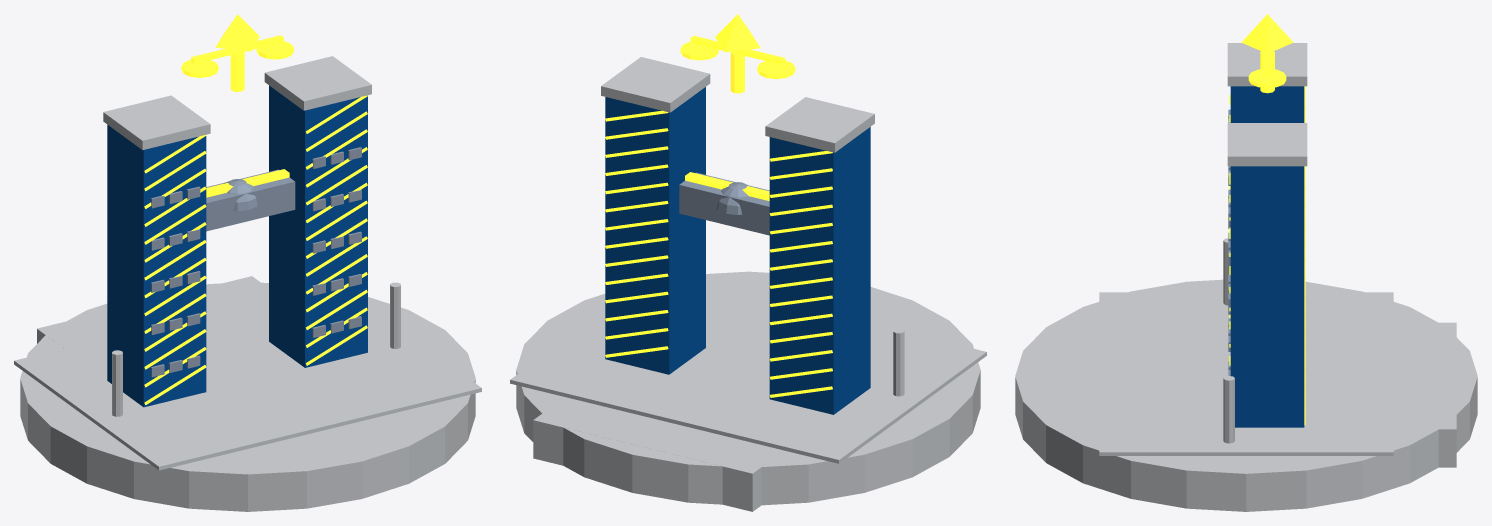
File: uel_hq.glb
The picture shows the model from 3 angles, left to right: view 1: azimuth 30°, elevation 25°; view 2: azimuth 150°, elevation 25°; view 3: azimuth 270°, elevation 25°; orthographic projection.
Parts seen in each view (by area): view 1: UEL_Plaza, UEL_ParliamentArc, UEL_Tower_L, UEL_Tower_R, UEL_TowerCap_R, UEL_TowerCap_L, UEL_ParliamentBlock, UEL_HeartBridge, UEL_ApexPyramid, UEL_ArcColumn_0, UEL_ArcColumn_7, UEL_HeartBridgeSpine (+4 smaller); view 2: UEL_Plaza, UEL_ParliamentArc, UEL_Tower_L, UEL_Tower_R, UEL_ParliamentBlock, UEL_TowerCap_L, UEL_TowerCap_R, UEL_HeartBridge, UEL_ApexPyramid, UEL_ArcColumn_0, UEL_HeartBridgeSpine, UEL_HeartNode (+3 smaller); view 3: UEL_Plaza, UEL_ParliamentArc, UEL_Tower_R, UEL_ParliamentBlock, UEL_TowerCap_R, UEL_Tower_L, UEL_TowerCap_L, UEL_ApexPyramid, UEL_ArcColumn_7, UEL_PanR.
Boxes of the visible parts, bbox=[...] form: UEL_Plaza: bbox=[14, 298, 481, 470]; UEL_ParliamentArc: bbox=[20, 282, 475, 511]; UEL_Tower_L: bbox=[107, 125, 206, 407]; UEL_Tower_R: bbox=[269, 85, 367, 367]; UEL_TowerCap_R: bbox=[264, 56, 371, 110]; UEL_TowerCap_L: bbox=[103, 95, 210, 150]; UEL_ParliamentBlock: bbox=[37, 276, 268, 348]; UEL_HeartBridge: bbox=[206, 169, 295, 231]; UEL_ApexPyramid: bbox=[215, 14, 259, 51]; UEL_ArcColumn_0: bbox=[112, 350, 122, 416]; UEL_ArcColumn_7: bbox=[390, 282, 400, 348]; UEL_HeartBridgeSpine: bbox=[206, 169, 289, 197]; UEL_Plaza: bbox=[510, 283, 986, 463]; UEL_ParliamentArc: bbox=[516, 271, 980, 505]; UEL_Tower_L: bbox=[769, 127, 870, 414]; UEL_Tower_R: bbox=[605, 87, 705, 374]; UEL_ParliamentBlock: bbox=[533, 397, 783, 511]; UEL_TowerCap_L: bbox=[765, 97, 874, 152]; UEL_TowerCap_R: bbox=[601, 57, 710, 112]; UEL_HeartBridge: bbox=[679, 172, 769, 235]; UEL_ApexPyramid: bbox=[715, 14, 760, 52]; UEL_ArcColumn_0: bbox=[893, 328, 904, 396]; UEL_HeartBridgeSpine: bbox=[685, 172, 769, 200]; UEL_HeartNode: bbox=[716, 182, 751, 214]; UEL_Plaza: bbox=[1099, 292, 1393, 455]; UEL_ParliamentArc: bbox=[1015, 279, 1477, 511]; UEL_Tower_R: bbox=[1230, 166, 1304, 427]; UEL_ParliamentBlock: bbox=[1393, 322, 1456, 467]; UEL_TowerCap_R: bbox=[1227, 123, 1307, 166]; UEL_Tower_L: bbox=[1230, 86, 1304, 122]; UEL_TowerCap_L: bbox=[1227, 43, 1307, 86]; UEL_ApexPyramid: bbox=[1241, 14, 1293, 53]; UEL_ArcColumn_7: bbox=[1223, 376, 1234, 443]; UEL_PanR: bbox=[1248, 69, 1286, 88].
Size of the model in its own units: 44 by 42 by 44.
